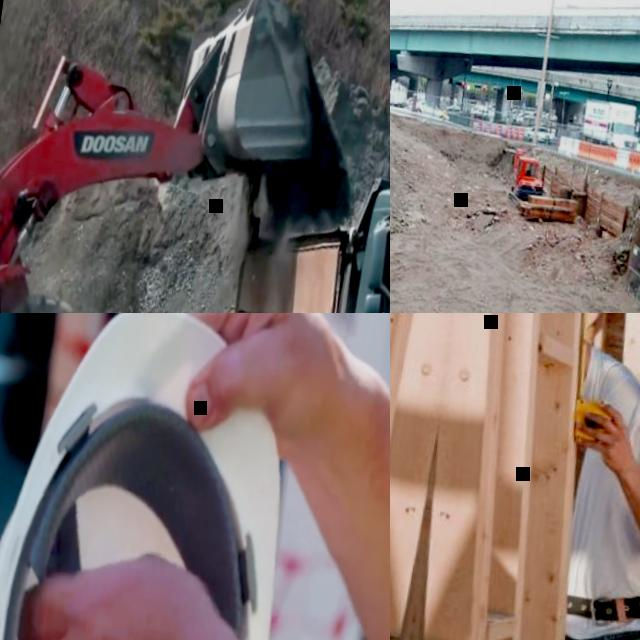Hardhat: (0, 313, 312, 640)
NO-Safety Vest: (546, 345, 640, 640)
Person: (0, 313, 390, 640), (512, 313, 640, 640)
Safety Cone: (512, 126, 519, 140), (517, 128, 525, 140), (505, 125, 512, 137), (485, 122, 492, 132), (495, 124, 502, 134), (476, 121, 482, 131)
vehicle: (0, 0, 345, 313), (217, 137, 390, 313), (503, 146, 583, 223), (579, 96, 640, 152), (552, 0, 640, 32), (408, 97, 452, 120), (526, 123, 551, 142)
